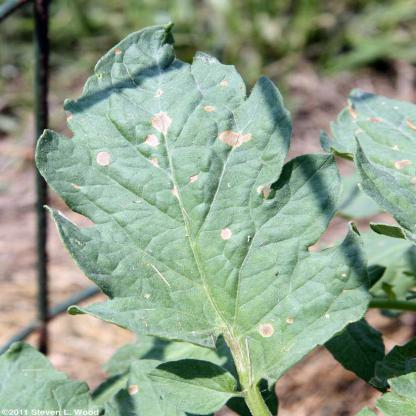tomato leaf bacterial spot: (32, 14, 367, 390)
